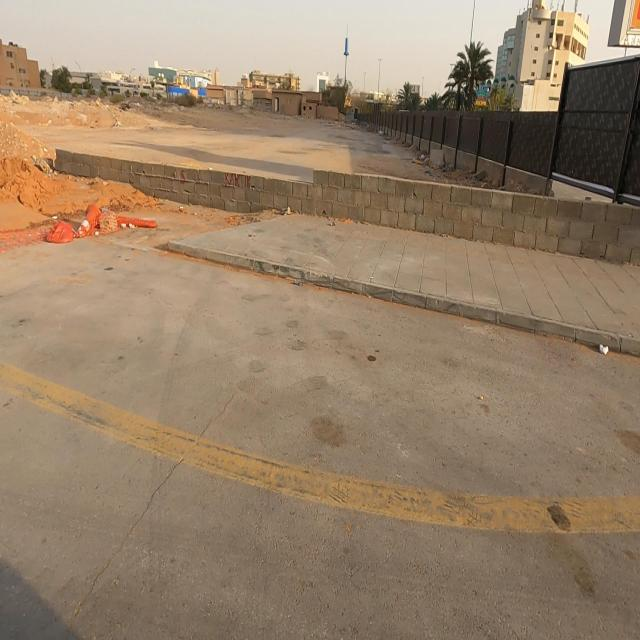Graffiti: (226, 172, 252, 190), (179, 170, 188, 185)
